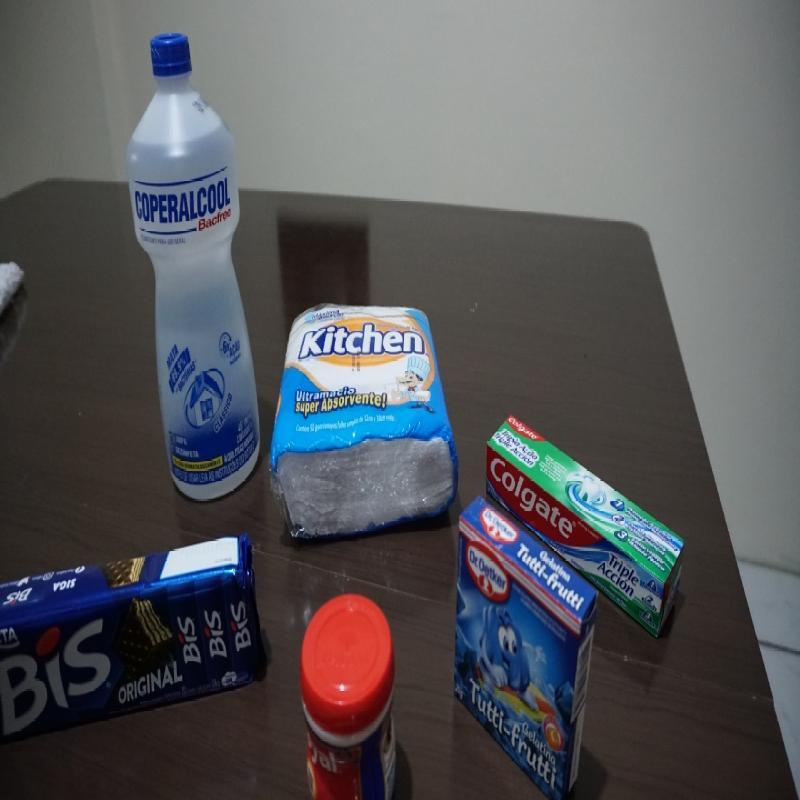Alcohol Bottle: (129, 31, 256, 499)
Gelatine: (457, 517, 592, 795)
Napkin: (276, 303, 462, 540)
Toothpaste: (486, 420, 662, 519)
Yeast: (300, 594, 397, 795)
